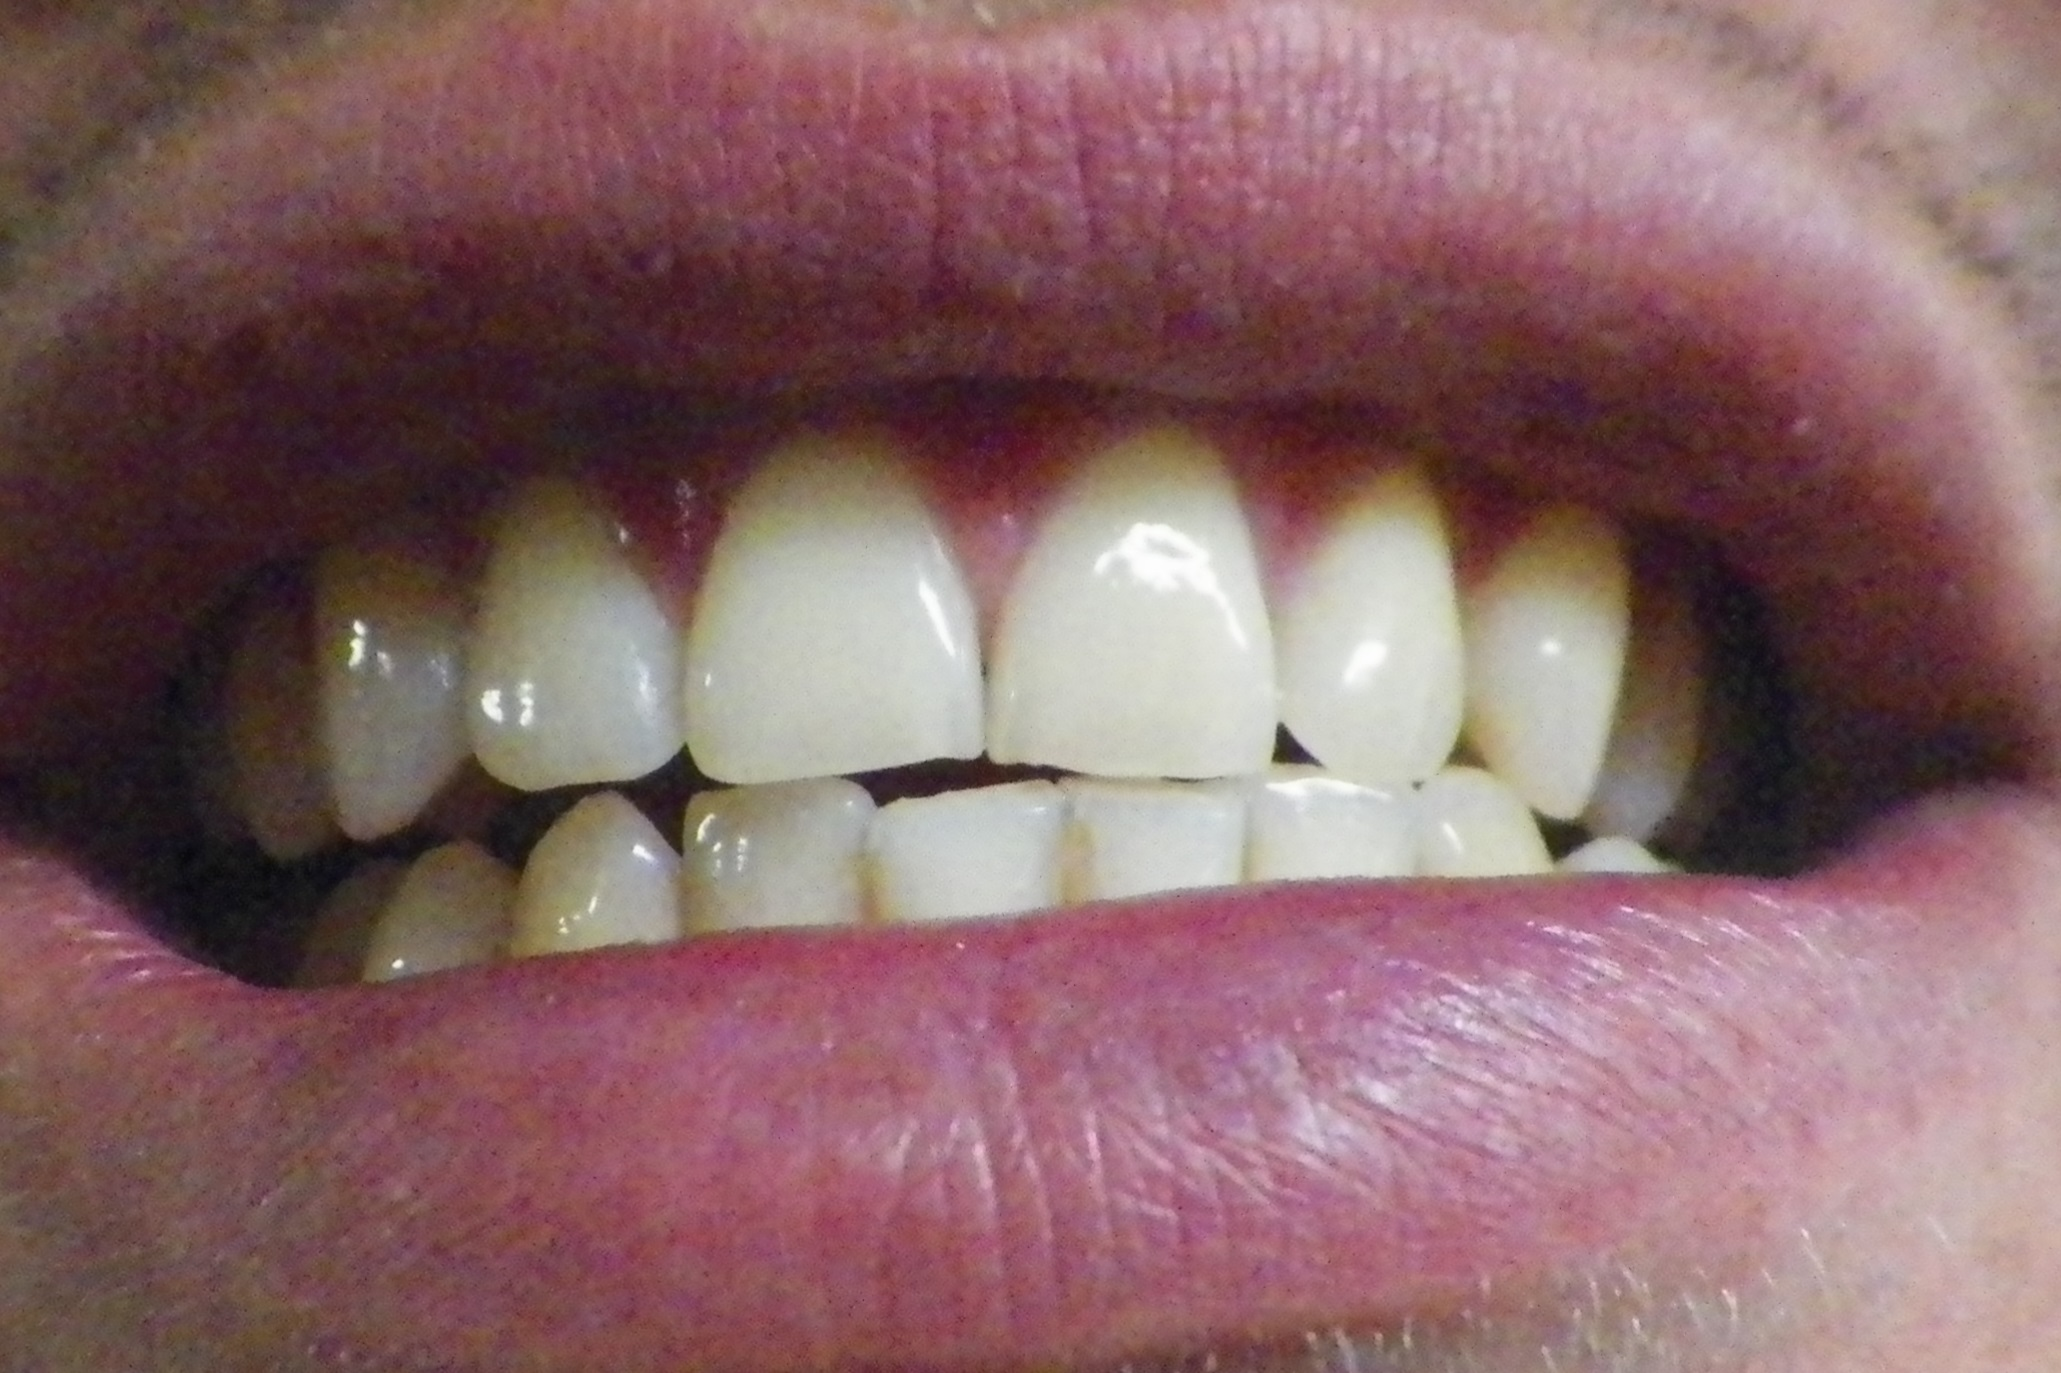boca: (208, 486, 1770, 1010)
